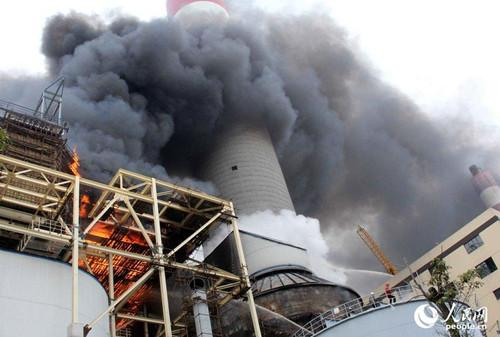fire: (75, 194, 164, 333)
smoke: (56, 17, 475, 181)
